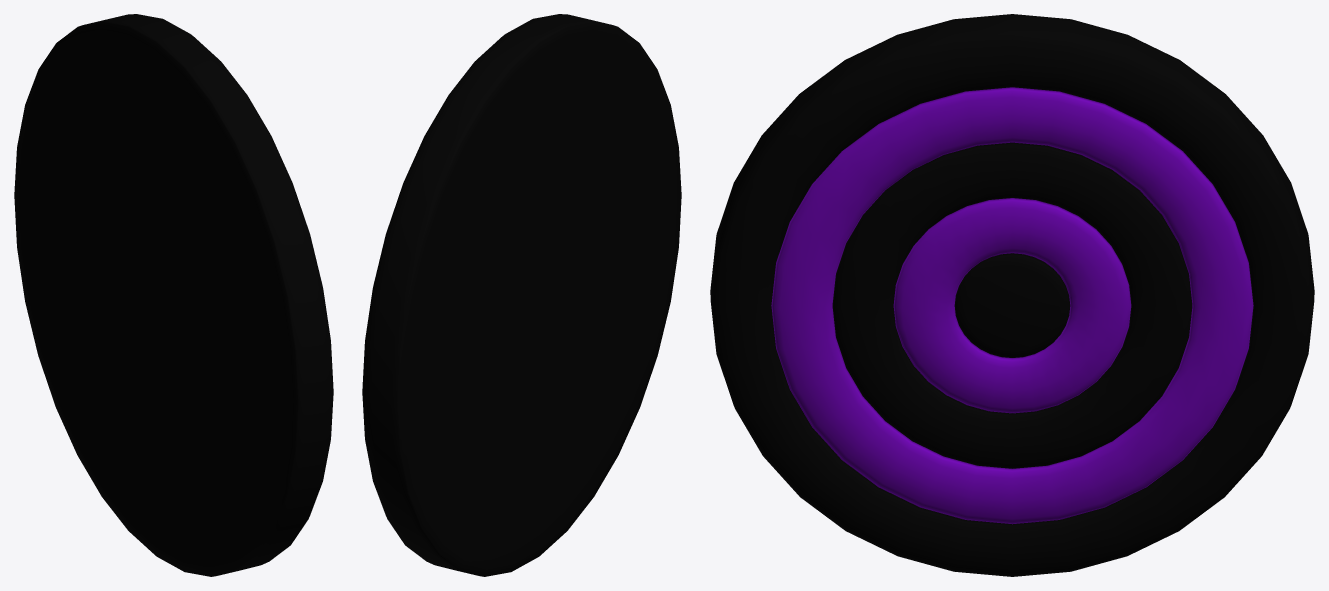
Rendered from DIANA_MORADA.fbx.
The picture shows the model from 3 angles, left to right: view 1: azimuth 30°, elevation 25°; view 2: azimuth 150°, elevation 25°; view 3: azimuth 270°, elevation 25°; orthographic projection. The views are drawn at different scales.
Parts seen in each view (by area): view 1: Cylinder; view 2: Cylinder; view 3: Cylinder.
Boxes of the visible parts, bbox=[...] form: Cylinder: bbox=[14, 14, 333, 576]; Cylinder: bbox=[362, 14, 681, 576]; Cylinder: bbox=[710, 14, 1314, 576].
Size of the model in its own units: 19.18 by 199 by 199.
